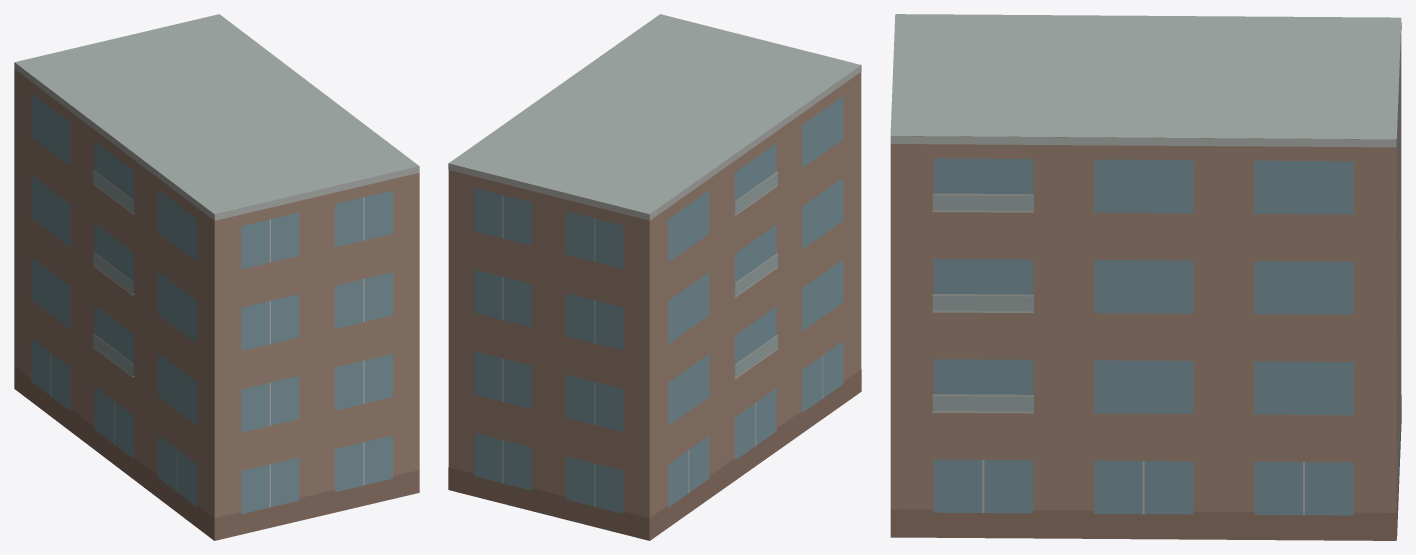
File: survey-upis-32946161.glb
3 views of the same model, side by side, from view 1: azimuth 30°, elevation 25°; view 2: azimuth 150°, elevation 25°; view 3: azimuth 270°, elevation 25° (orthographic). The views are drawn at different scales.
Visible parts, largest first — view 1: survey-upis-32946161.tmp; view 2: survey-upis-32946161.tmp; view 3: survey-upis-32946161.tmp.
Part boxes in pixels (<box>): survey-upis-32946161.tmp: <box>14,14,419,540</box>; survey-upis-32946161.tmp: <box>448,14,861,540</box>; survey-upis-32946161.tmp: <box>890,14,1401,540</box>.
Bounding box in the file's own units: 8.18 × 12.2 × 14.08.
